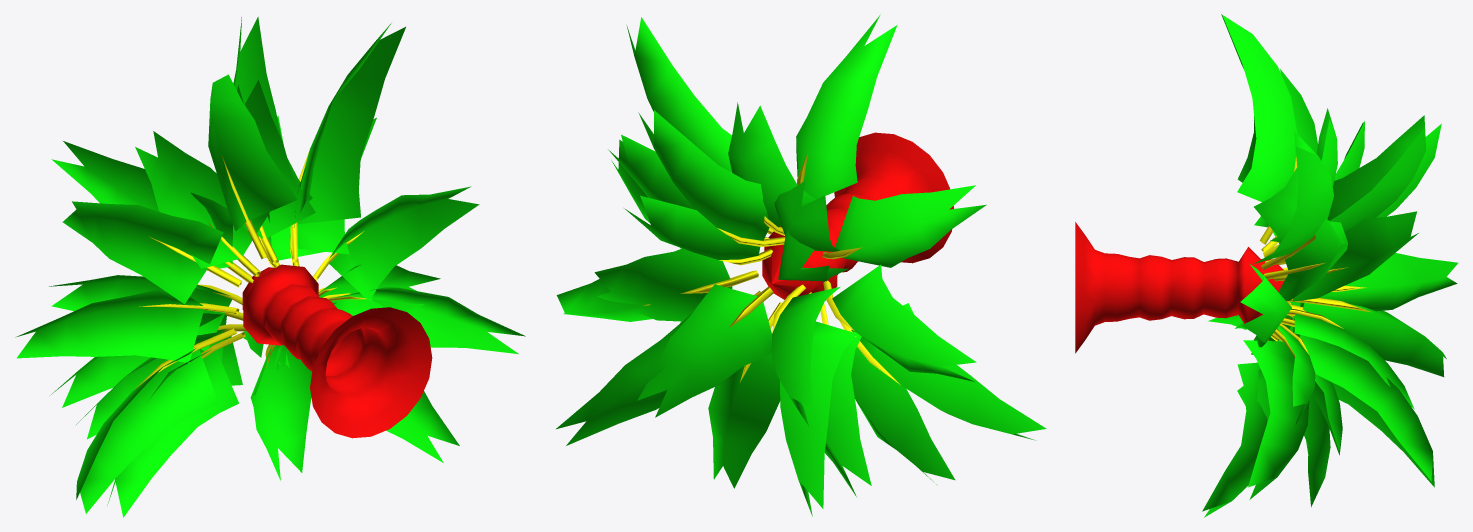
The model's file is M_P10_Tree_8.FBX.
The picture shows the model from 3 angles, left to right: view 1: azimuth 30°, elevation 25°; view 2: azimuth 150°, elevation 25°; view 3: azimuth 270°, elevation 25°; orthographic projection. The views are drawn at different scales.
Visible parts, largest first — view 1: M_P10_Tree_8_LOD0; view 2: M_P10_Tree_8_LOD0; view 3: M_P10_Tree_8_LOD0.
Boxes of the visible parts, left/top/right/bottom form: M_P10_Tree_8_LOD0: left=15, top=16, right=525, bottom=517; M_P10_Tree_8_LOD0: left=556, top=14, right=1046, bottom=516; M_P10_Tree_8_LOD0: left=1075, top=14, right=1458, bottom=517.
Size of the model in its own units: 327 by 244 by 309.
